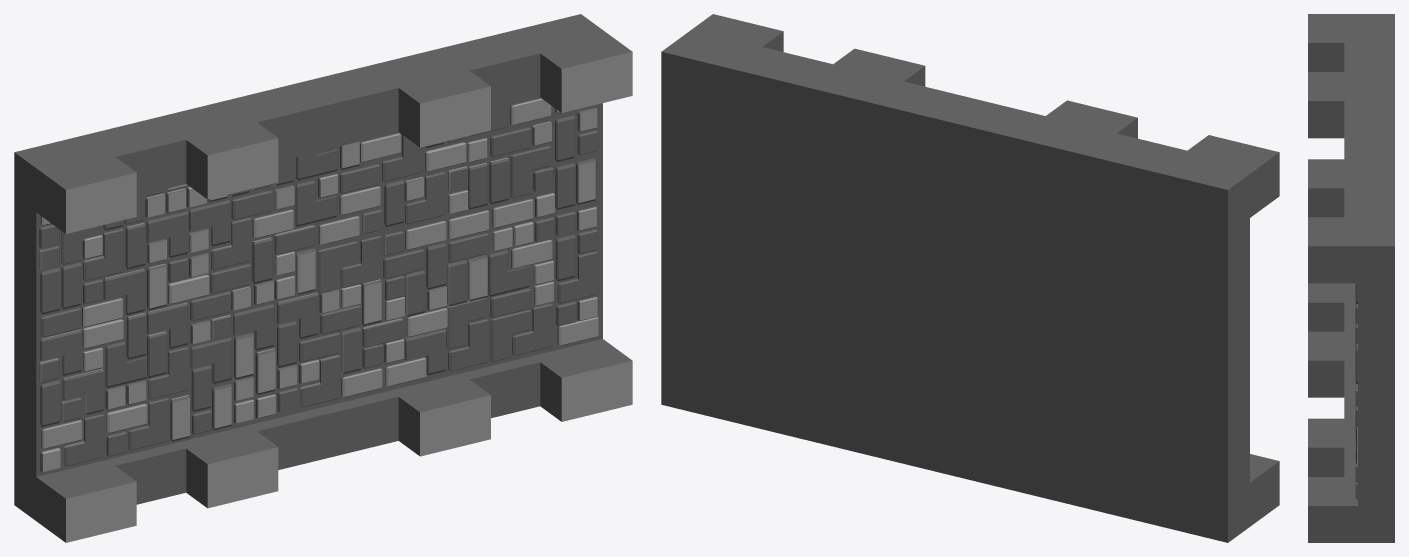
File: BridgeRotatedfbx 3.fbx
3 views of the same model, side by side, from view 1: azimuth 30°, elevation 25°; view 2: azimuth 150°, elevation 25°; view 3: azimuth 270°, elevation 25° (orthographic). The views are drawn at different scales.
Parts seen in each view (by area): view 1: Cube.009; view 2: Cube.009; view 3: Cube.009.
Part boxes in pixels (box(x1,y1,x2,y2)): Cube.009: box(14, 14, 632, 542); Cube.009: box(661, 14, 1279, 542); Cube.009: box(1308, 14, 1394, 542).
Size of the model in its own units: 135 by 510 by 858.
